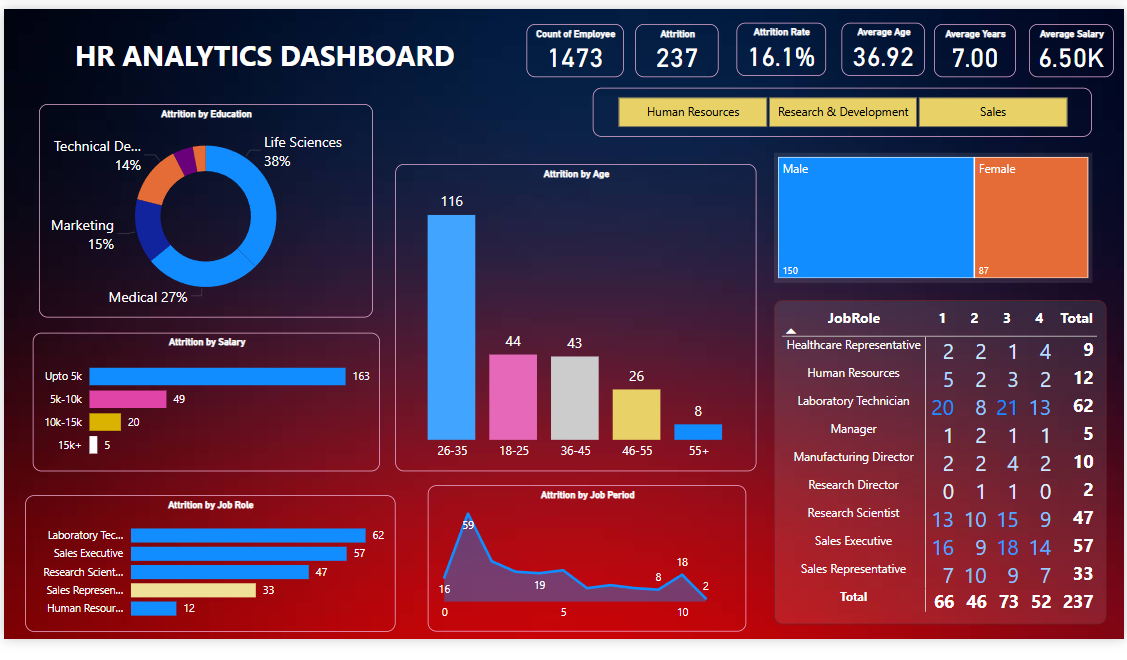

This screenshot's page, from the dashboard's own definition file:
{"tool":"powerbi","page":{"name":"Page 1","canvas":[1280,720],"ordinal":0},"visuals":[{"type":"card","title":"Count of Employee","fields":{"Values":["Sum(HR_Analytics.EmployeeCount)"]},"box":[597.8,16.7,111.1,61.1],"z":0},{"type":"card","title":"Attrition","fields":{"Values":["Sum(HR_Analytics.AttritionCount)"]},"box":[721.1,16.7,95.6,61.1],"z":1000},{"type":"card","title":"Attrition Rate","fields":{"Values":["HR_Analytics.AttritionRate"]},"box":[836.7,15.6,102.2,61.1],"z":2000},{"type":"card","title":"Average Age","fields":{"Values":["Avg(HR_Analytics.Age)"]},"box":[957.8,15.6,95.6,61.1],"z":3000},{"type":"card","title":"Average Salary","fields":{"Values":["Avg(HR_Analytics.MonthlyIncome)"]},"box":[1171.1,16.7,96.7,61.1],"z":4000},{"type":"card","title":"Average Years","fields":{"Values":["Avg(HR_Analytics.YearsAtCompany)"]},"box":[1062.2,16.7,93.3,61.1],"z":5000},{"type":"donutChart","title":"Attrition by Education","fields":{"Category":["HR_Analytics.EducationField"],"Y":["Sum(HR_Analytics.AttritionCount)"]},"box":[40,108.6,381.4,244.3],"z":6000},{"type":"columnChart","title":"Attrition by Age","fields":{"Category":["HR_Analytics.AgeGroup"],"Y":["Sum(HR_Analytics.AttritionCount)"]},"box":[447.1,177.1,412.9,351.4],"z":7000},{"type":"pivotTable","fields":{"Values":["Sum(HR_Analytics.AttritionCount)"],"Rows":["HR_Analytics.JobRole"],"Columns":["HR_Analytics.JobSatisfaction"]},"box":[880,333.3,380,370],"z":8000},{"type":"barChart","title":"Attrition by Job Role","fields":{"Y":["Sum(HR_Analytics.AttritionCount)"],"Category":["HR_Analytics.JobRole"]},"box":[24.3,555.7,422.9,155.7],"z":9000},{"type":"areaChart","title":"Attrition by Job Period","fields":{"Category":["HR_Analytics.YearsAtCompany"],"Y":["Sum(HR_Analytics.AttritionCount)"]},"box":[484.3,544.3,364.3,167.1],"z":10000},{"type":"barChart","title":"Attrition by Salary","fields":{"Y":["Sum(HR_Analytics.AttritionCount)"],"Category":["HR_Analytics.SalarySlab"]},"box":[32.9,370,397.1,158.6],"z":11000},{"type":"slicer","fields":{"Values":["HR_Analytics.Department"]},"box":[672.9,90,570,55.7],"z":12000},{"type":"treemap","title":"Attrition by Age","fields":{"Values":["Sum(HR_Analytics.AttritionCount)"],"Group":["HR_Analytics.Gender"]},"box":[880,164.3,364.3,148.6],"z":13000},{"type":"textbox","box":[24.3,25.7,547.1,64.3],"z":14000}]}

Visuals, with their boxes on the page's 1280x720 design canvas (x1, y1, x2, y2). These are canvas units, not pixel positions in the 1127x660 screenshot, which may show the page scaled, cropped or inside an application window:
"Count of Employee" card: [598,17,709,78]
"Attrition" card: [721,17,817,78]
"Attrition Rate" card: [837,16,939,77]
"Average Age" card: [958,16,1053,77]
"Average Salary" card: [1171,17,1268,78]
"Average Years" card: [1062,17,1156,78]
"Attrition by Education" donutChart: [40,109,421,353]
"Attrition by Age" columnChart: [447,177,860,528]
pivotTable - Sum(HR_Analytics.AttritionCount) x HR_Analytics.JobRole: [880,333,1260,703]
"Attrition by Job Role" barChart: [24,556,447,711]
"Attrition by Job Period" areaChart: [484,544,849,711]
"Attrition by Salary" barChart: [33,370,430,529]
slicer - HR_Analytics.Department: [673,90,1243,146]
"Attrition by Age" treemap: [880,164,1244,313]
textbox: [24,26,571,90]
